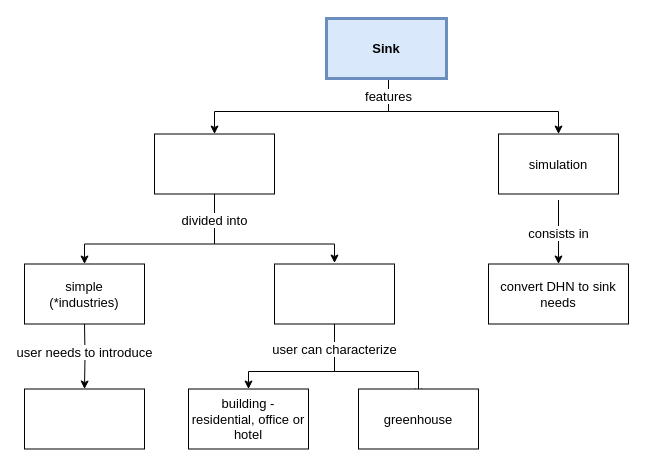
Some shapes in this 647 by 467 pixel diagram are drawn without their labels. The shapes that lost their labels are listed below. From the top down, each one's centre as x and y in pixels, then its label:
pixel 214 163: characterization
pixel 334 293: detailed (*only buildings)
pixel 84 418: streams
